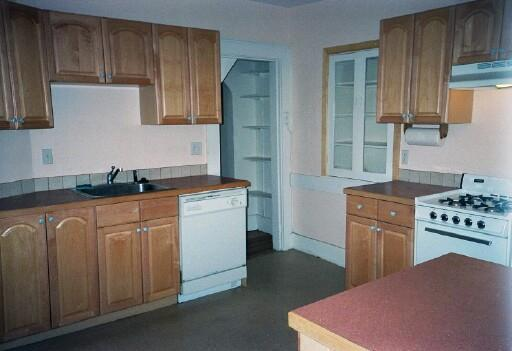Electrodomestico: (414, 175, 511, 265), (183, 196, 248, 290)
Ventana: (327, 51, 395, 181)
